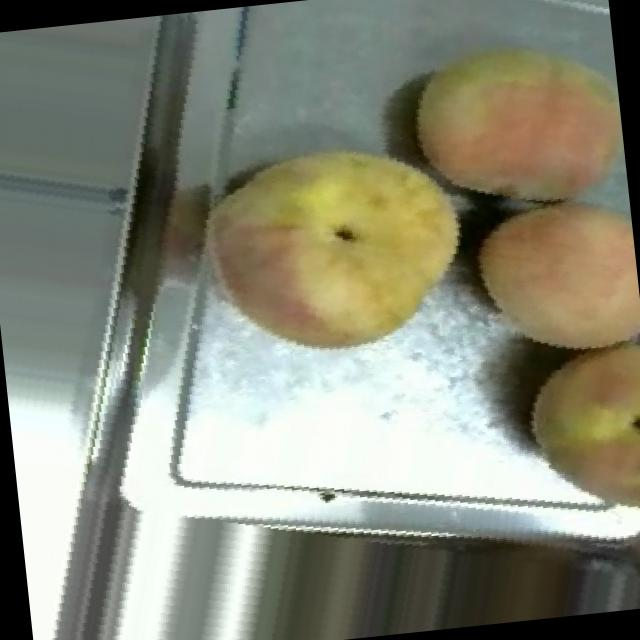Fruit: (167, 90, 513, 402), (380, 6, 628, 221), (453, 191, 640, 382), (495, 336, 640, 558)
